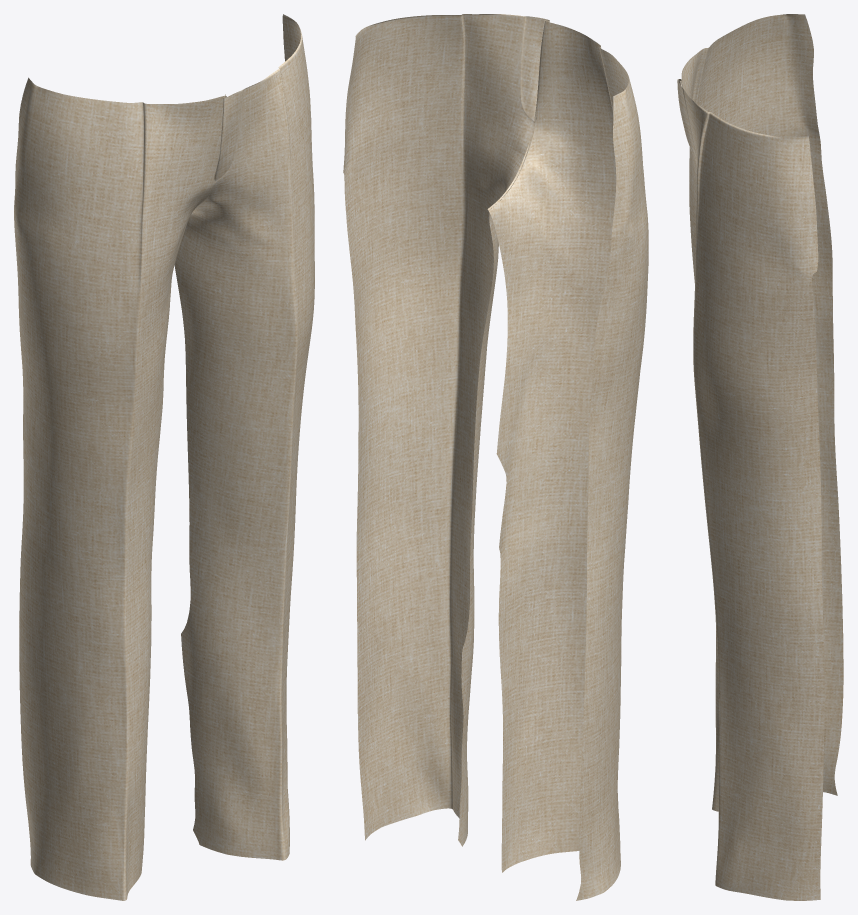
The model's file is standard_single_pleat.glb.
3 views of the same model, side by side, from view 1: azimuth 30°, elevation 25°; view 2: azimuth 150°, elevation 25°; view 3: azimuth 270°, elevation 25° (orthographic). The views are drawn at different scales.
Visible parts, largest first — view 1: standard_single_pleat2; view 2: standard_single_pleat2; view 3: standard_single_pleat2.
Part boxes in pixels (bbox=[...]): standard_single_pleat2: bbox=[14, 14, 314, 900]; standard_single_pleat2: bbox=[343, 14, 648, 900]; standard_single_pleat2: bbox=[677, 14, 843, 900].
Bounding box in the file's own units: 0.0497 × 0.1341 × 0.0262.
1 material, 1 textured.
